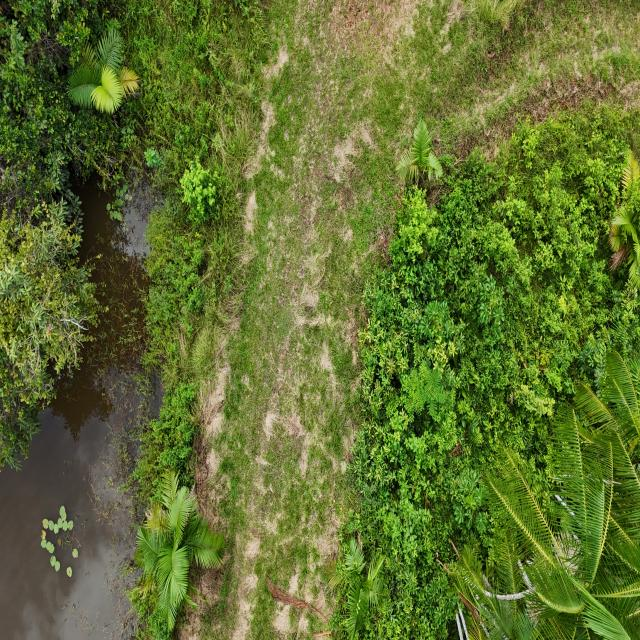vegetation: (328, 104, 639, 638), (128, 468, 226, 637)
